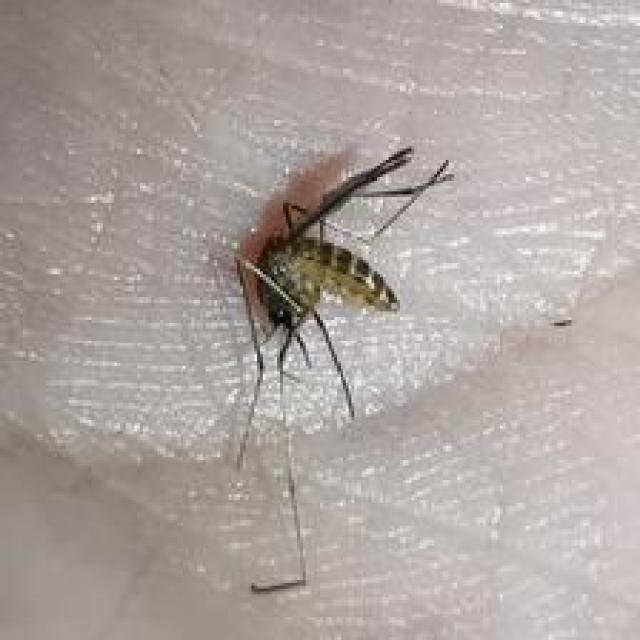Culex: (229, 143, 454, 591)
